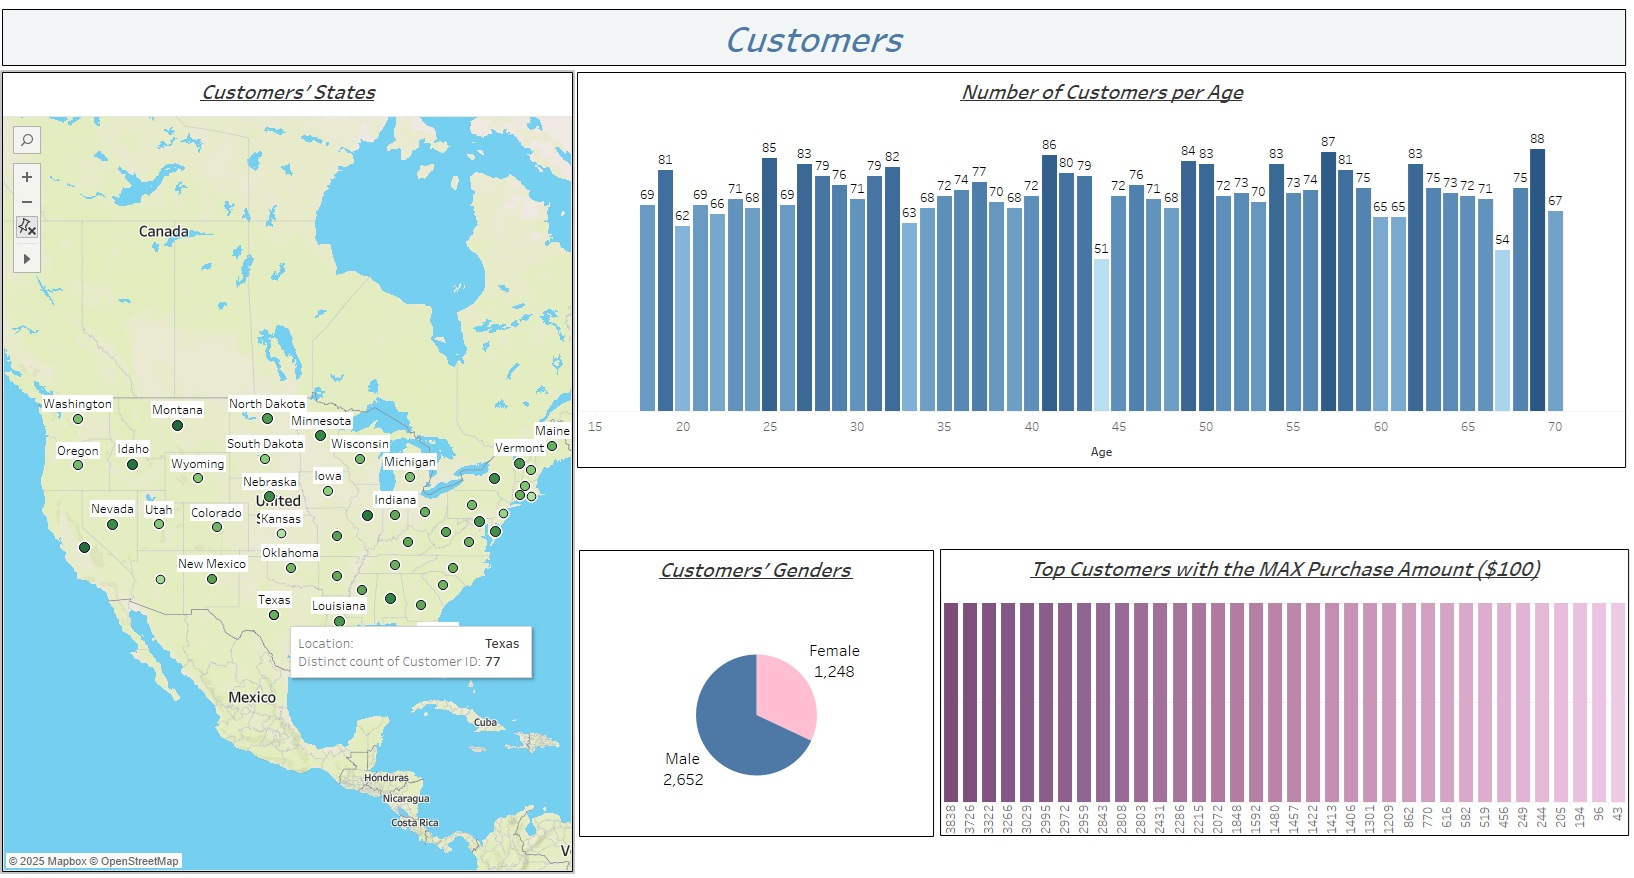

Layout of this report page (visuals, bound fields, positions):
{"tool":"tableau","page":{"name":"Dashboard 1","canvas":[1654,890],"ordinal":0},"visuals":[{"type":"text","box":[13,21,1624,57]},{"type":"worksheet","title":"Customers Locations","mark":"Circle","box":[13,84,571,800]},{"type":"worksheet","title":"Customers per Age","mark":"Bar","rows":["Customer_ID"],"cols":["Age"],"box":[588,84,1049,396]},{"type":"worksheet","title":"Top Customers with the MAX Purchase Amount","mark":"Bar","rows":["Purchase_Amount_USD"],"cols":["Customer_ID"],"box":[951,561,689,287]},{"type":"worksheet","title":"Customers' Genders ","mark":"Pie","box":[590,562,355,287]}]}

Visuals, with their boxes in screenshot pixels (x1, y1, x2, y2), scaled from the page's 1654x890 canvas onto the 1634x878 screenshot:
text: pyautogui.locateOnScreen(13, 21, 1617, 77)
"Customers Locations" worksheet (Circle marks): pyautogui.locateOnScreen(13, 83, 577, 872)
"Customers per Age" worksheet (Bar marks): pyautogui.locateOnScreen(581, 83, 1617, 474)
"Top Customers with the MAX Purchase Amount" worksheet (Bar marks): pyautogui.locateOnScreen(940, 553, 1620, 837)
"Customers' Genders " worksheet (Pie marks): pyautogui.locateOnScreen(583, 554, 934, 838)
